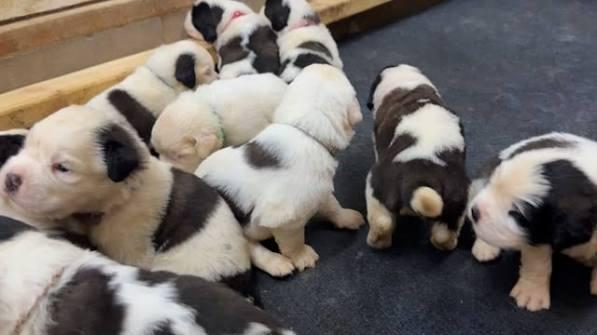puppy-dog: (0, 105, 254, 284), (193, 66, 367, 278), (0, 218, 296, 335), (0, 40, 216, 163), (458, 132, 597, 312), (365, 63, 471, 253), (150, 73, 293, 175), (183, 0, 286, 80), (258, 0, 344, 85)
